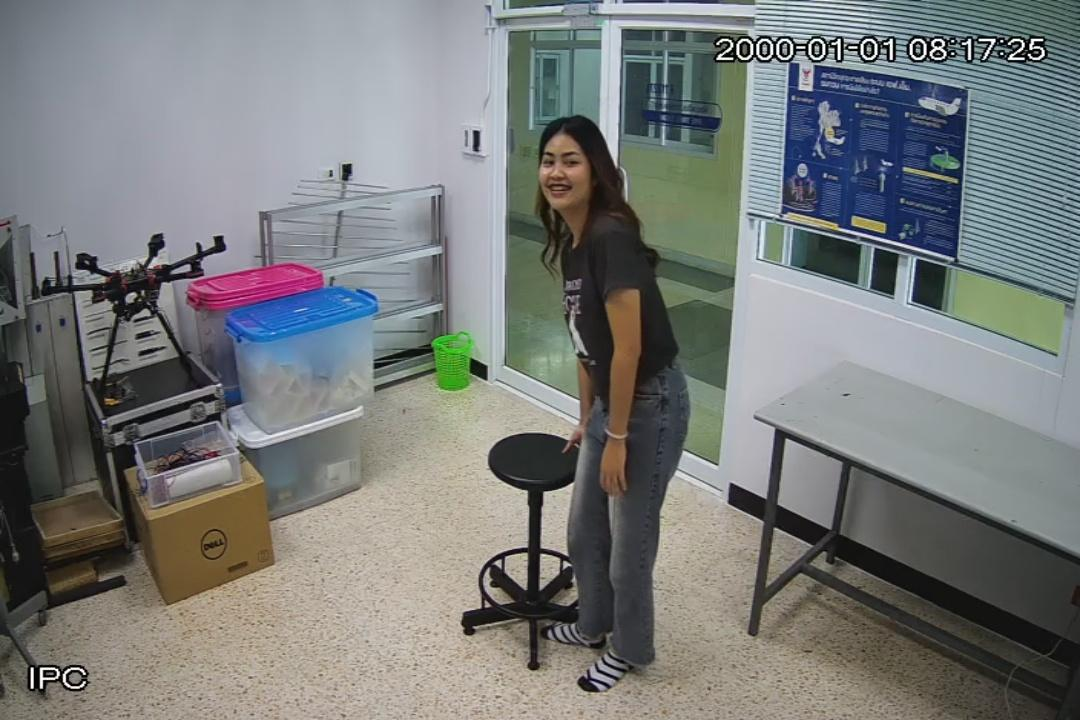normal: (535, 115, 689, 691)
